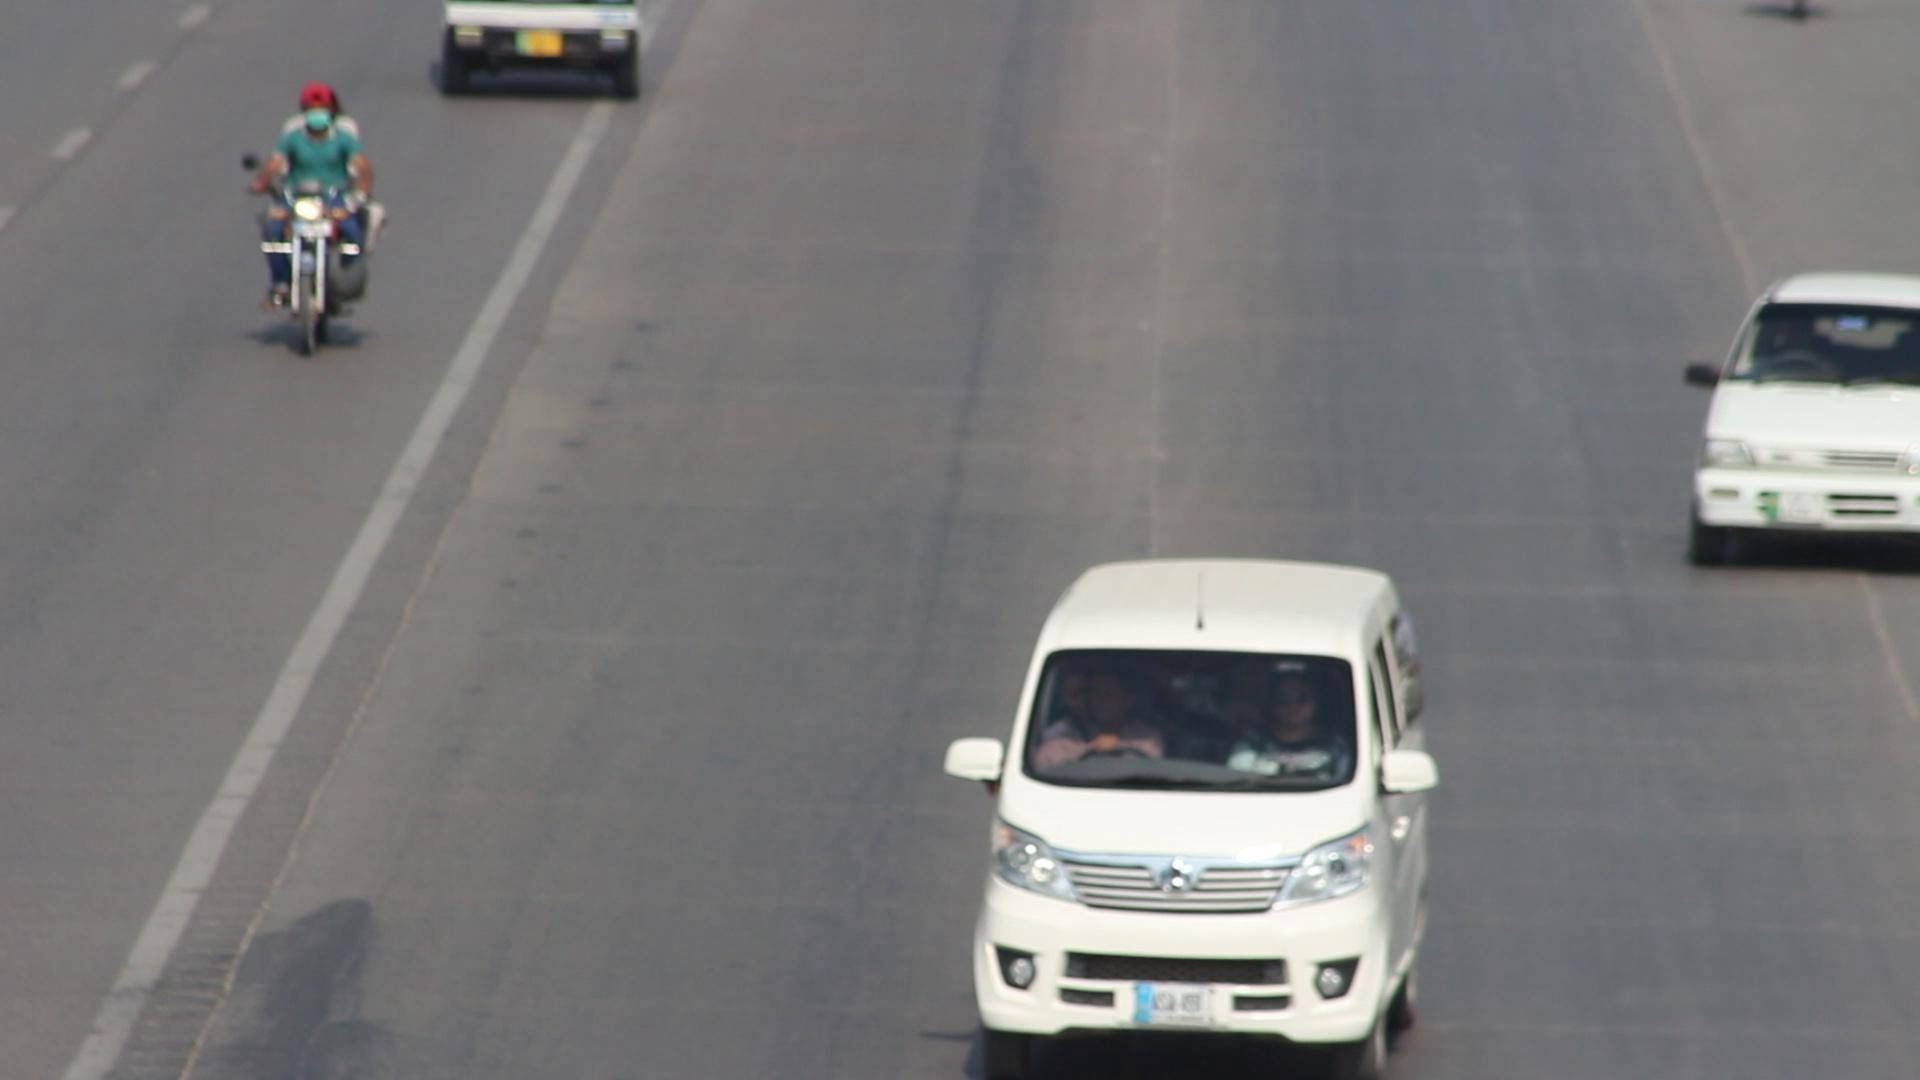windshield: (1014, 640, 1367, 781)
